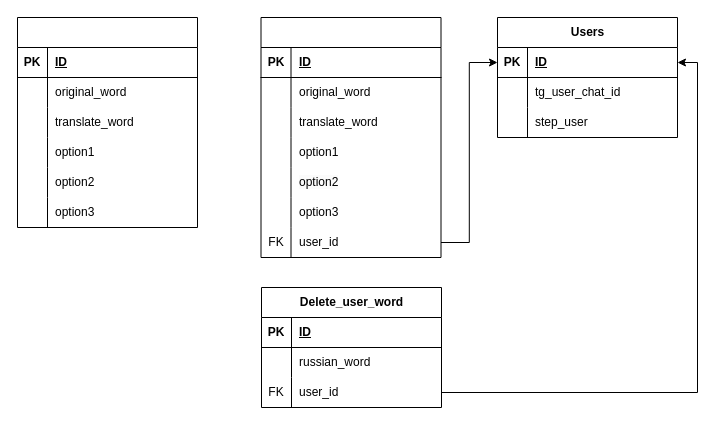
Some shapes in this 723 by 425 pixel diagram are drawn without their labels. The box of each missing label's shape, as (x1, y1, x2, y2) in pixels:
Default_words: (16, 16, 198, 228)
New_user_word: (260, 16, 441, 258)
